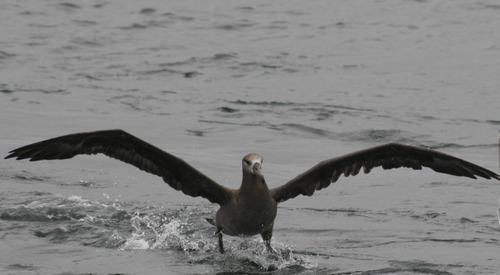001.Black_footed_Albatross: (4, 130, 499, 264)
